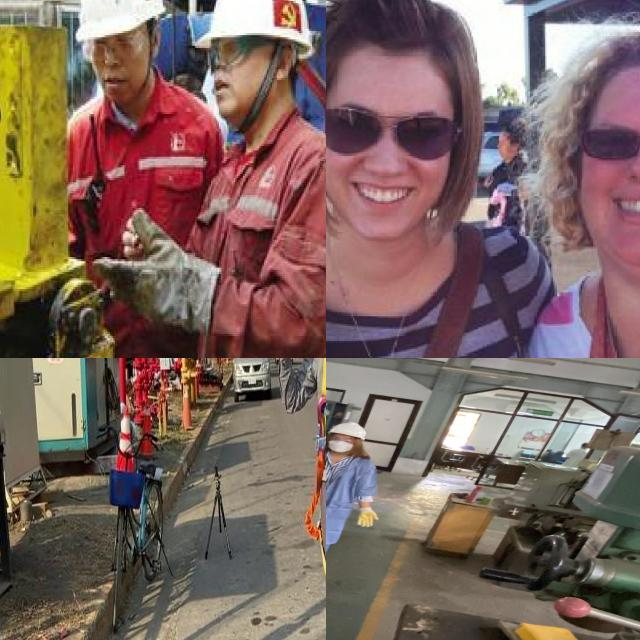Harness: (305, 358, 326, 576)
face_mask: (326, 434, 355, 452)
face_nomask: (326, 101, 452, 214), (578, 122, 640, 228), (202, 37, 260, 109), (85, 33, 140, 94)
glasses: (326, 97, 458, 168), (578, 120, 640, 169), (79, 36, 146, 65), (204, 34, 248, 68), (326, 436, 356, 444)
hand_glove: (93, 206, 221, 340), (355, 509, 383, 529)
head_helmet: (326, 418, 380, 578), (191, 0, 319, 57), (66, 0, 170, 44), (326, 420, 367, 438)
head_nohelmet: (326, 0, 476, 78), (575, 32, 640, 105)
person: (326, 0, 536, 358), (55, 0, 229, 358), (164, 0, 326, 358), (496, 25, 640, 358)
